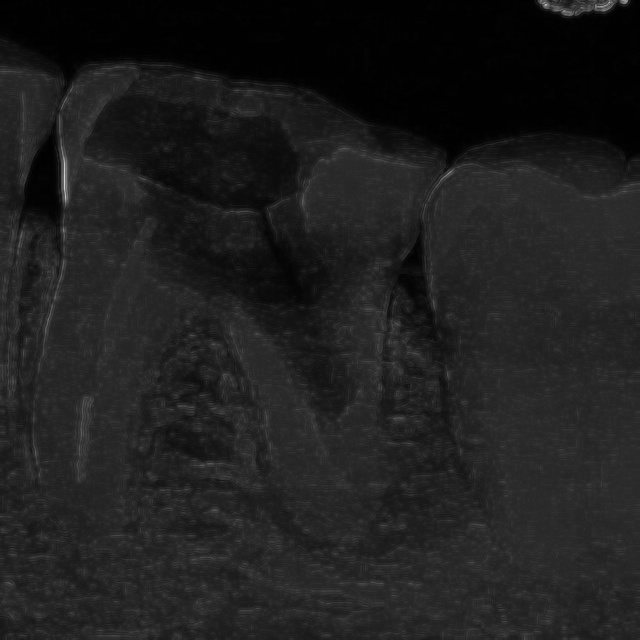Class 2- incomplete endodontic treatment: (28, 39, 473, 586)
